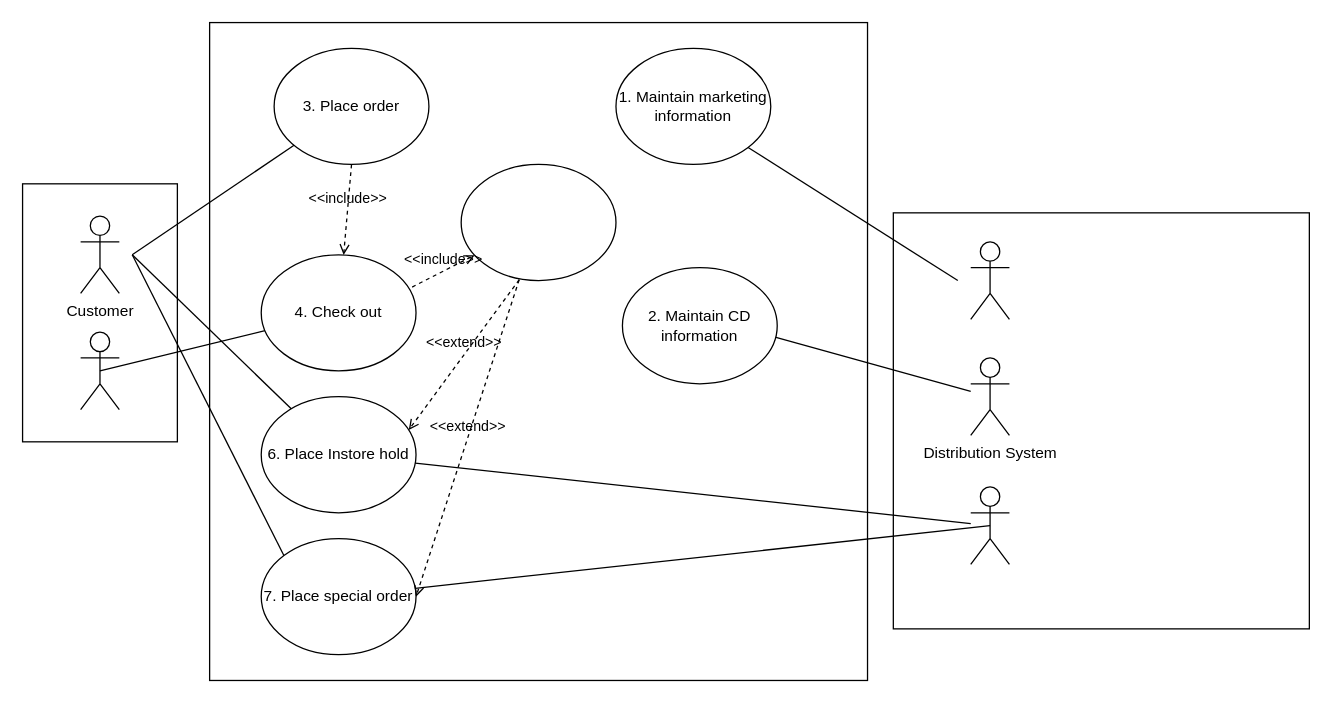
Some shapes in this 1333 by 703 pixel diagram are drawn without their labels. Each missing label, with the centre of its shape:
"5. Maintain order" belongs at (538,222).
"Credit Centre" belongs at (99,370).
"Store" belongs at (989,525).
"Vendor" belongs at (989,280).
